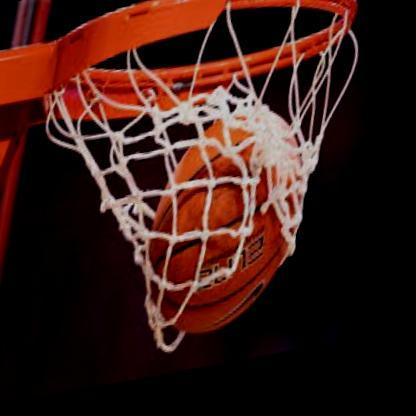basketball: (139, 110, 333, 354)
rim: (3, 0, 372, 145)
